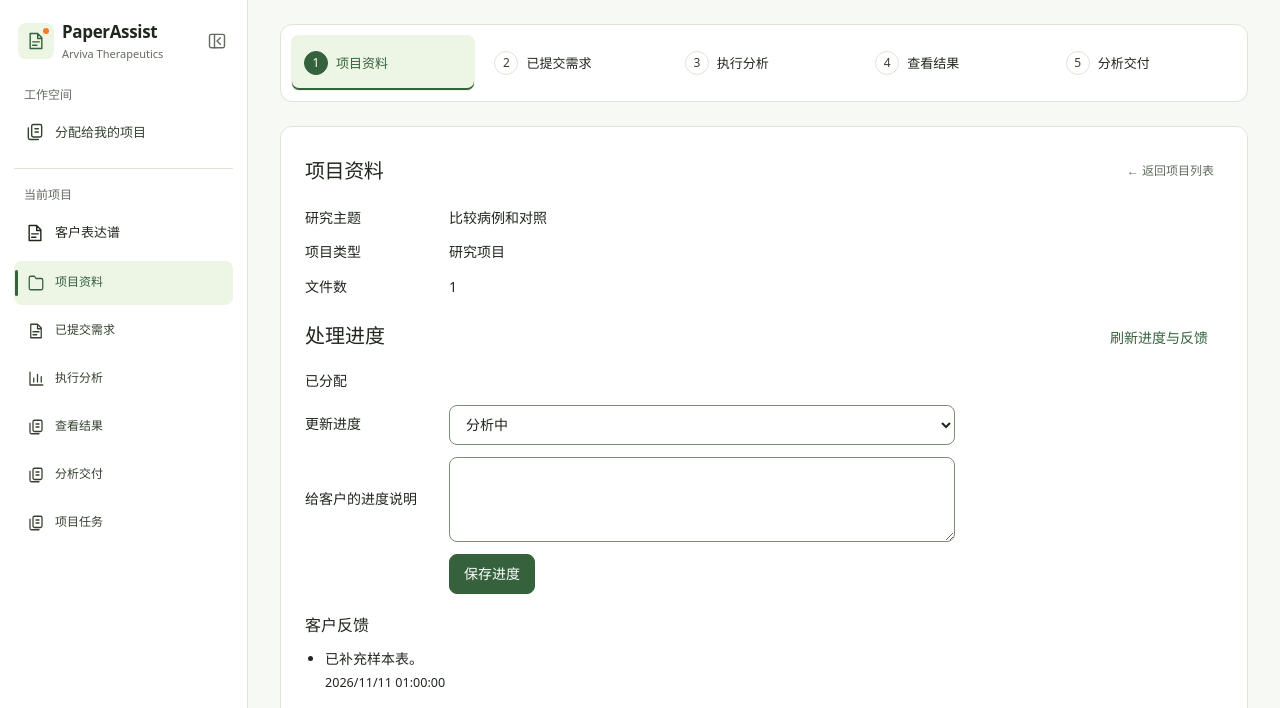
Test case: writes progress against the assignment and latest submitted requirement
The width and height of the screenshot is (1280, 708).
Expected: the text "已补充样本表。" is shown, [325,649,423,668]
Select "待补材料" in the dropdown labelled "更新进度" at (702, 425), box [449,405,955,445]
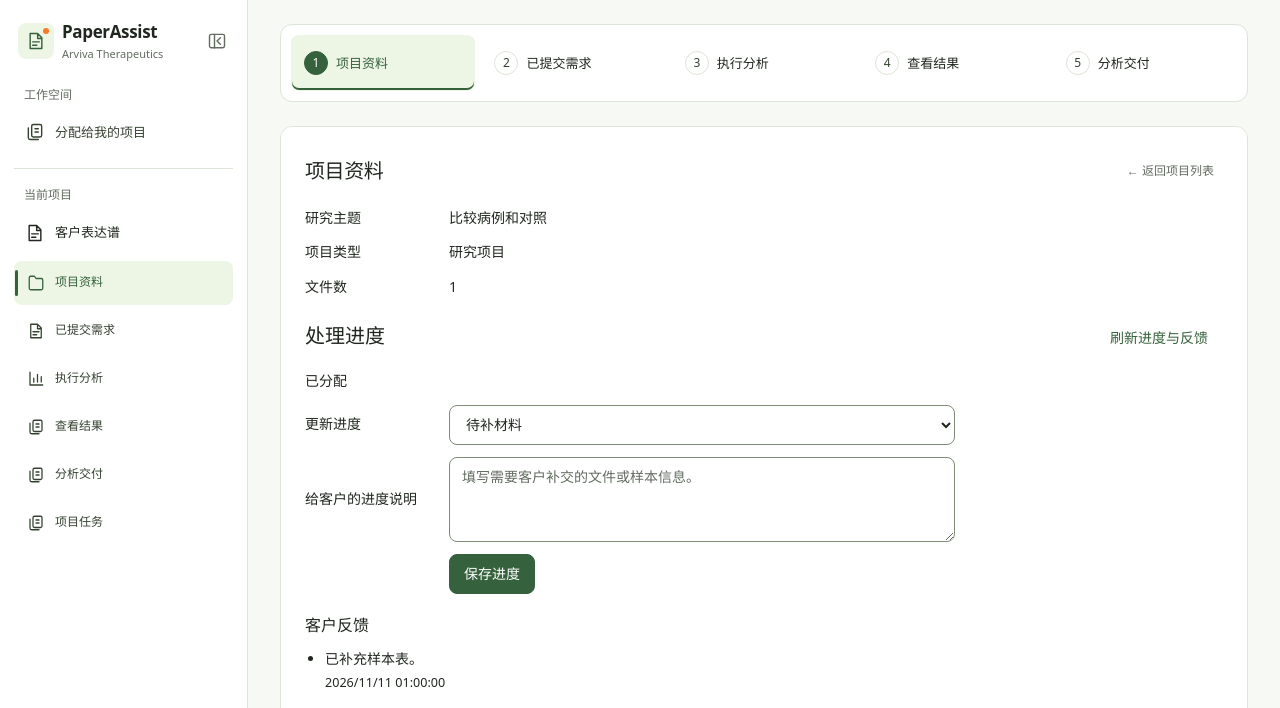
Type "请补充分组表。" into the text box labelled "给客户的进度说明" at (702, 499), box [449,457,955,542]
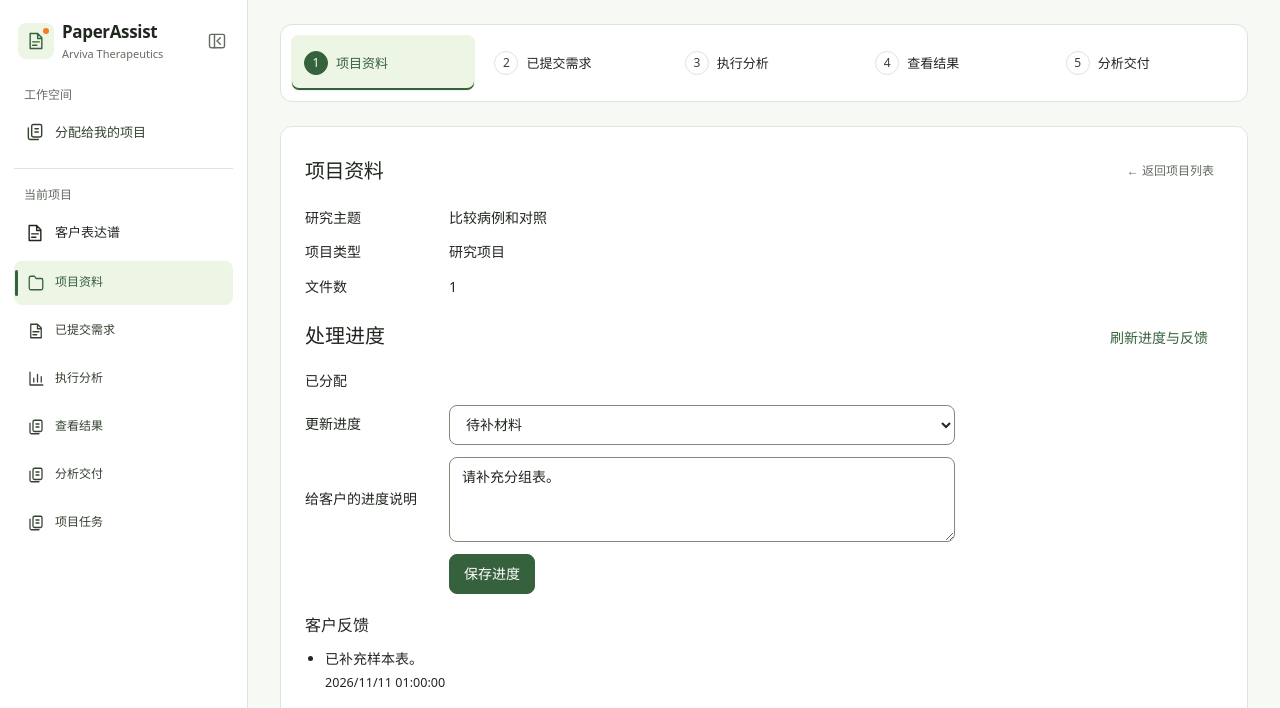
Click the button with aria-label "第 2 步：已提交需求" at (574, 63), box [481,35,666,91]
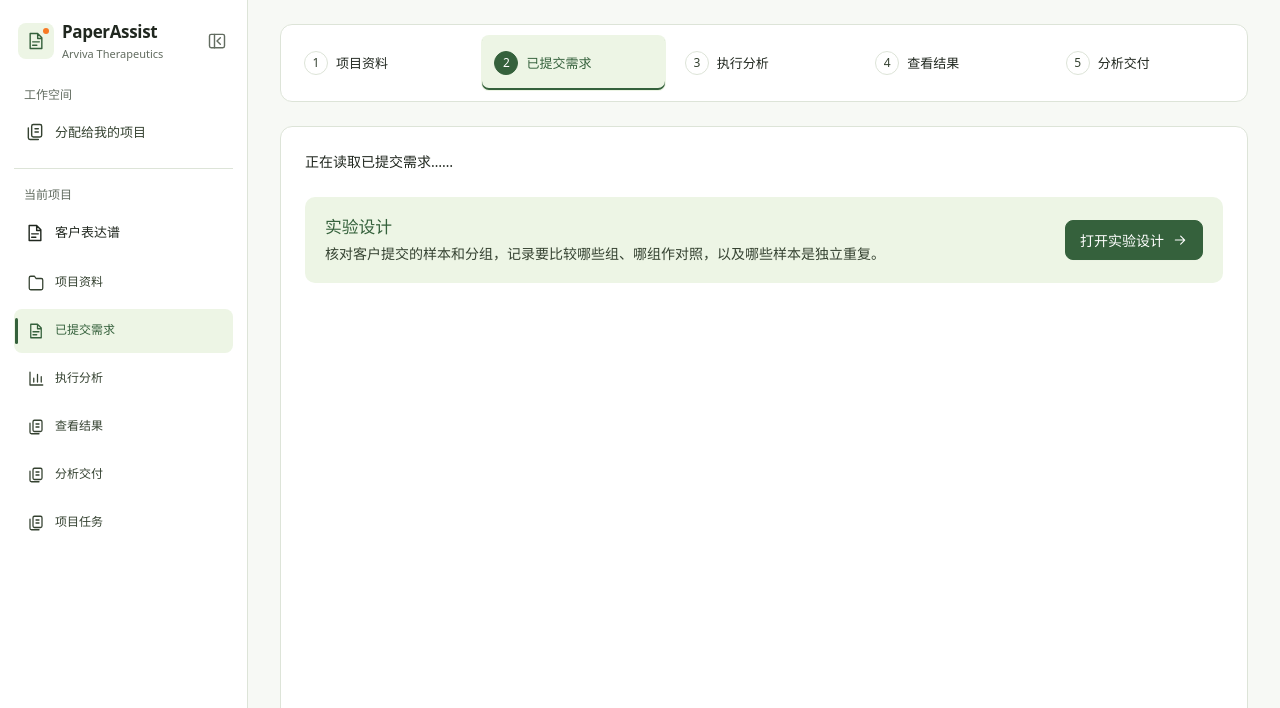
Click the button with aria-label "第 1 步" at (383, 63), box [291,35,475,91]
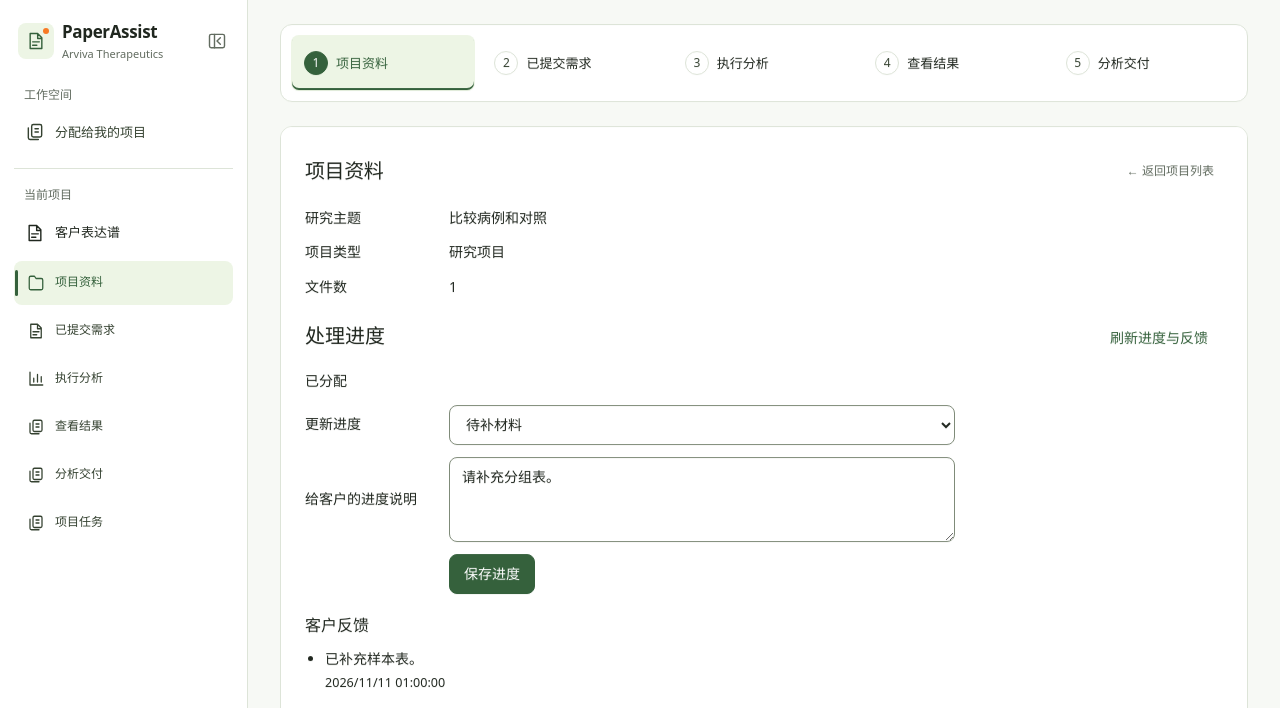
Now the dropdown labelled "更新进度" shows "待补材料", box [449,405,955,445]
Now the text box labelled "给客户的进度说明" holds "请补充分组表。", box [449,457,955,542]
Click the button "保存进度" at (492, 574), box [449,554,535,594]
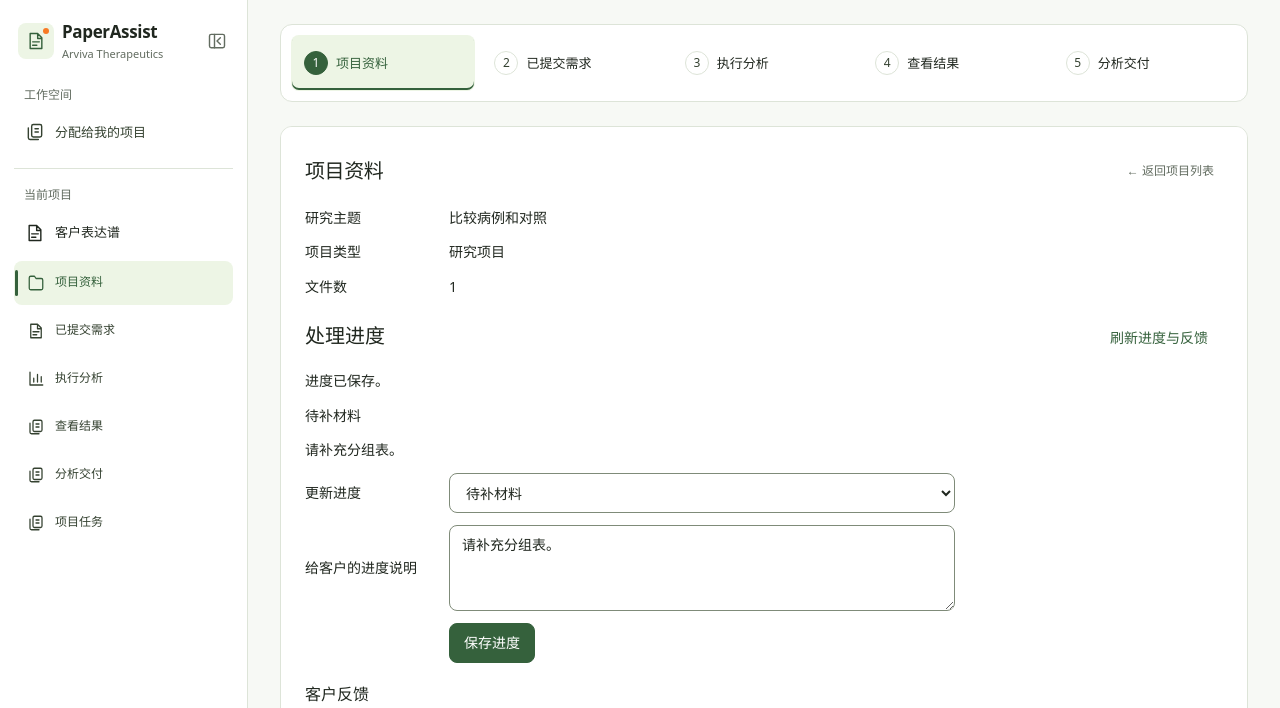
Now the text "进度已保存。" is shown, box [305,371,389,390]
Click the button "刷新进度与反馈" at (1159, 338), box [1095,318,1223,358]
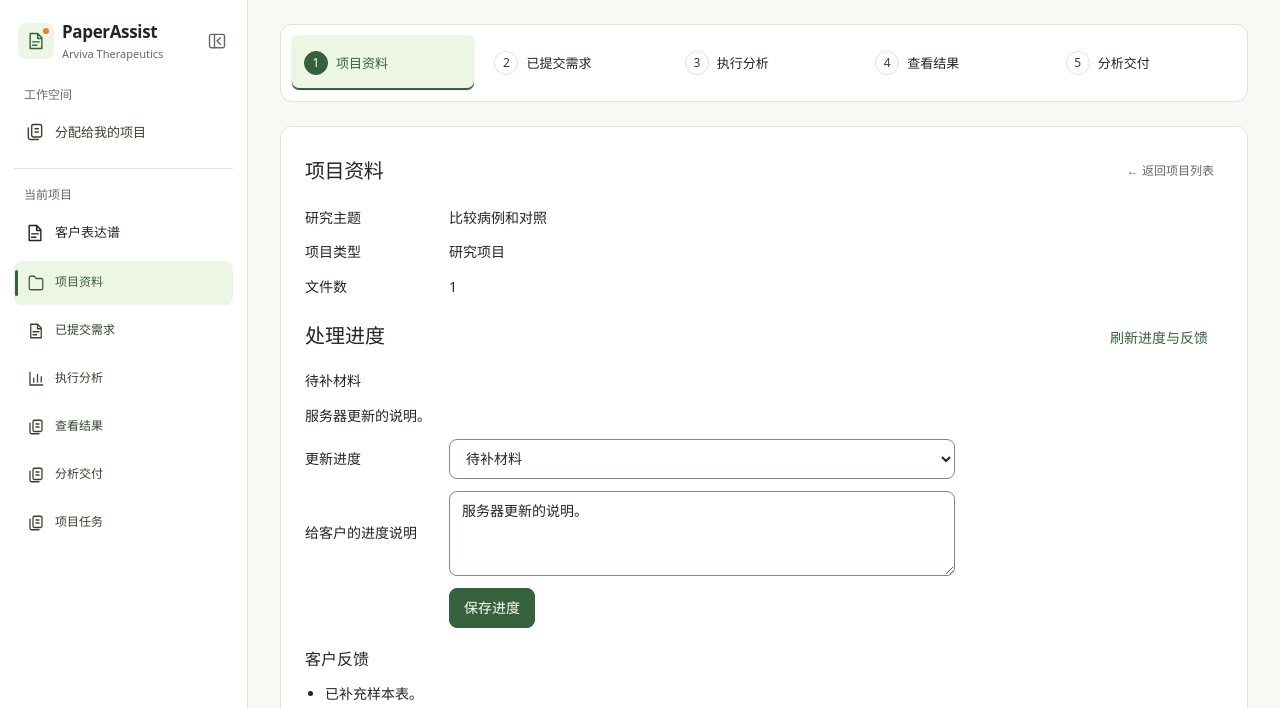
Now the text box labelled "给客户的进度说明" holds "服务器更新的说明。", box [449,491,955,576]
